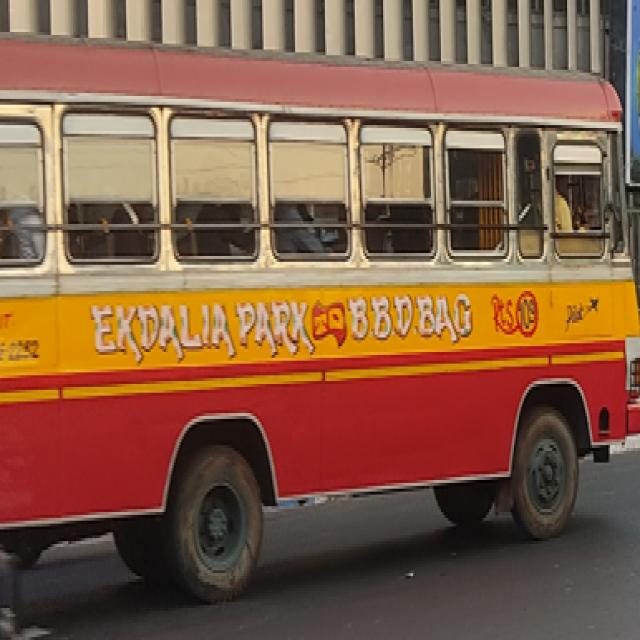bus: (2, 31, 640, 615)
